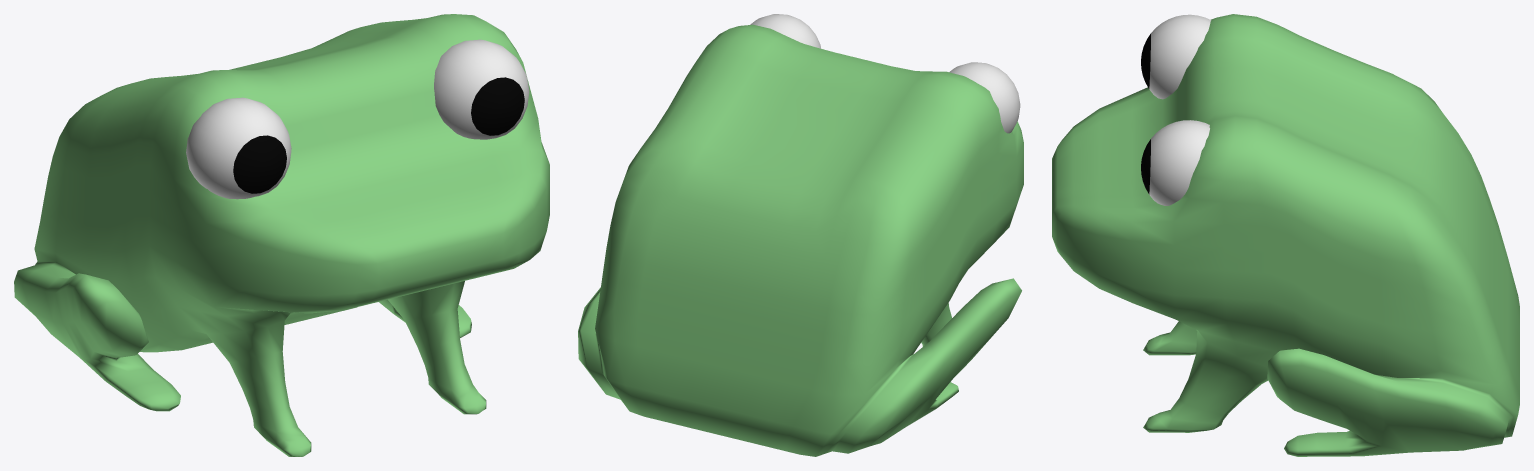
File: frog ai lambert.fbx
The picture shows the model from 3 angles, left to right: view 1: azimuth 30°, elevation 25°; view 2: azimuth 150°, elevation 25°; view 3: azimuth 270°, elevation 25°; orthographic projection. The views are drawn at different scales.
Parts seen in each view (by area): view 1: pSphere9; view 2: pSphere9; view 3: pSphere9.
Boxes of the visible parts, x1=… form: pSphere9: x1=14, y1=14, x2=549, y2=456; pSphere9: x1=578, y1=14, x2=1023, y2=456; pSphere9: x1=1052, y1=14, x2=1519, y2=456.
Bounding box in the file's own units: 1.35 × 0.9935 × 1.29.
